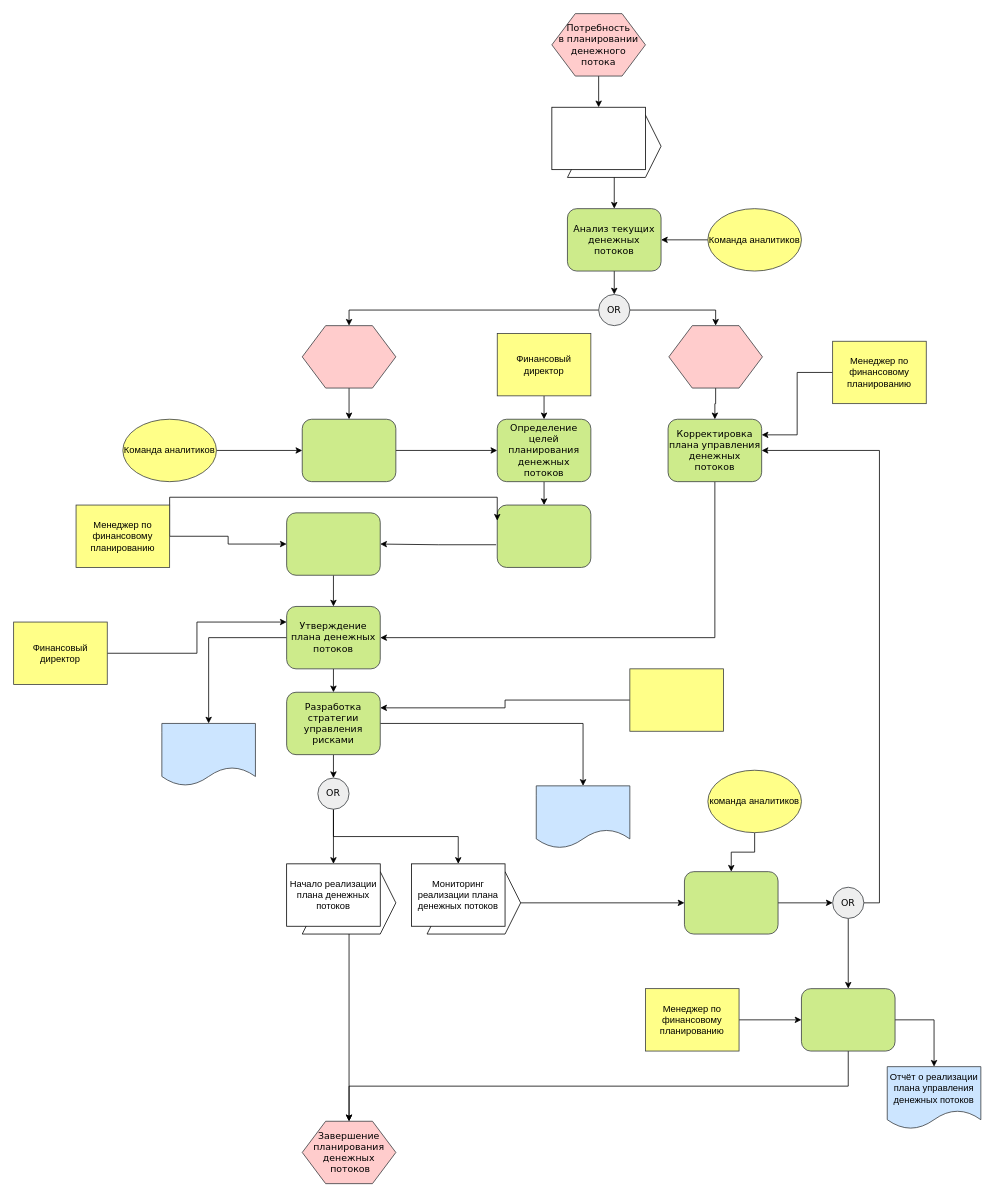
Some shapes in this 994 by 1197 pixel diagram are drawn without their labels. The shapes that lost their labels are listed below. From the top down, each one's centre as x and y in pixels, then its label:
the point at 598,138: Сбор данных о текущих денежных потоках
the point at 348,356: Необходимость создания плана управления денежными потоками
the point at 715,356: План управления денежными потоками существует
the point at 348,450: Прогнозирование денежных потоков
the point at 333,543: Составление плана денежных потоков
the point at 543,535: Разработка стратегии планирования денежных потоков
the point at 676,699: Менеджер по управлению рисками
the point at 208,754: План управления денежными потоками
the point at 582,816: Отчёт о рисках
the point at 731,902: Анализ отклонений от плана денежных потоков
the point at 848,1019: Подготовка отчета о реализации плана управления денежных потоков
